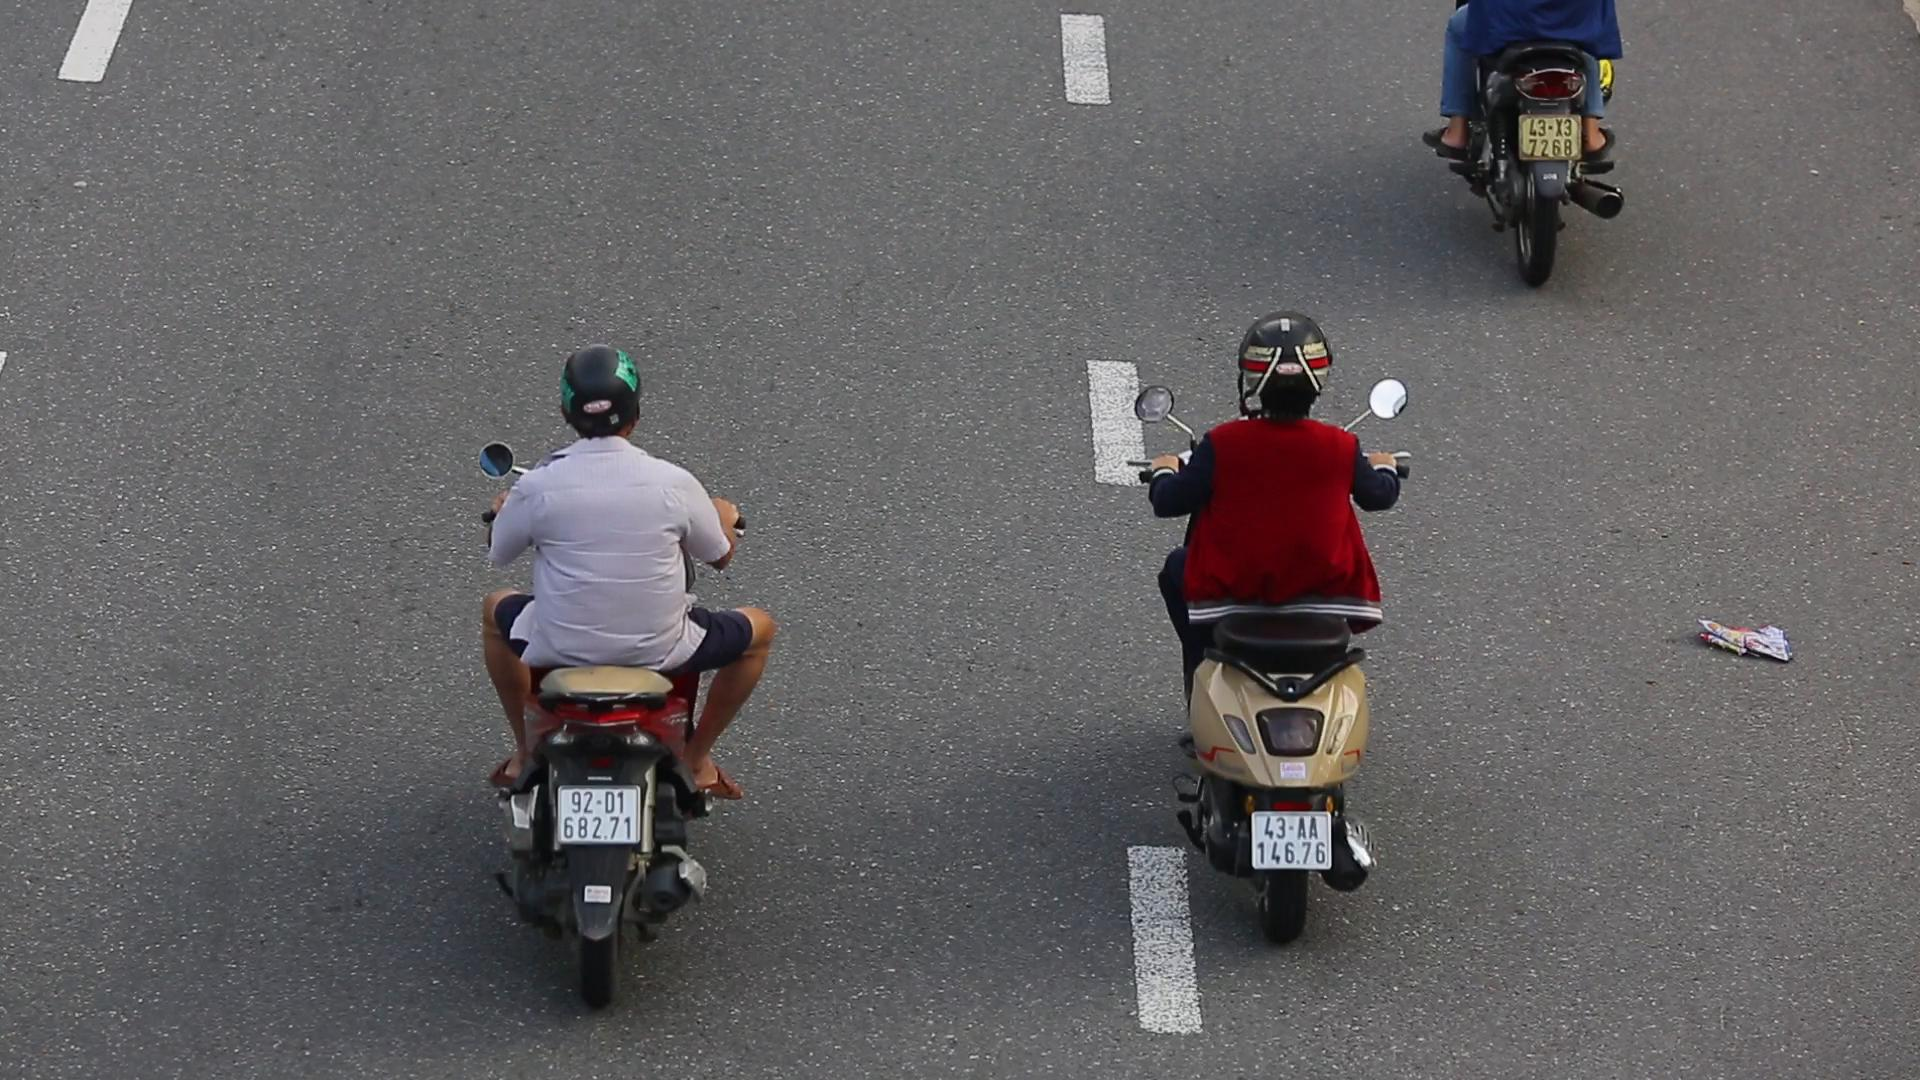motobike: (471, 320, 782, 1027), (1101, 297, 1425, 955)
